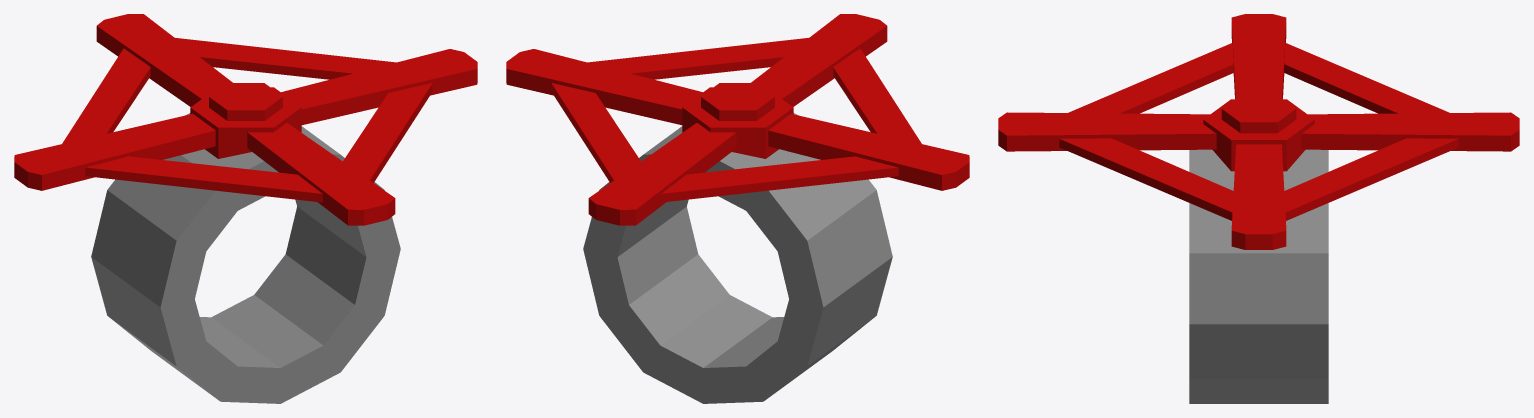
File: Prop_Industrial_Pipe_Valve_03.FBX
3 renders of one model, left to right at view 1: azimuth 30°, elevation 25°; view 2: azimuth 150°, elevation 25°; view 3: azimuth 270°, elevation 25°, orthographic.
Parts seen in each view (by area): view 1: Prop_Industrial_Pipe_Valve_03; view 2: Prop_Industrial_Pipe_Valve_03; view 3: Prop_Industrial_Pipe_Valve_03.
Boxes of the visible parts, bbox=[...] form: Prop_Industrial_Pipe_Valve_03: bbox=[14, 14, 477, 403]; Prop_Industrial_Pipe_Valve_03: bbox=[506, 14, 969, 403]; Prop_Industrial_Pipe_Valve_03: bbox=[998, 14, 1519, 403].
Bounding box in the file's own units: 786 × 471 × 786.
